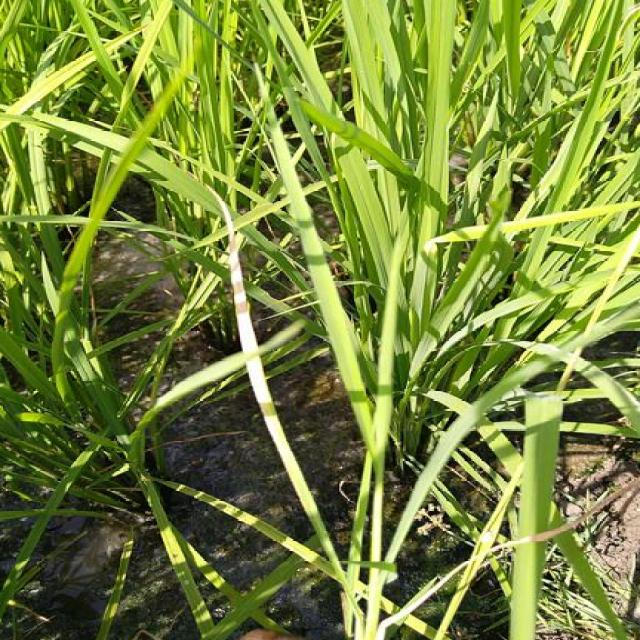Leaf Blight: (209, 188, 330, 551)
